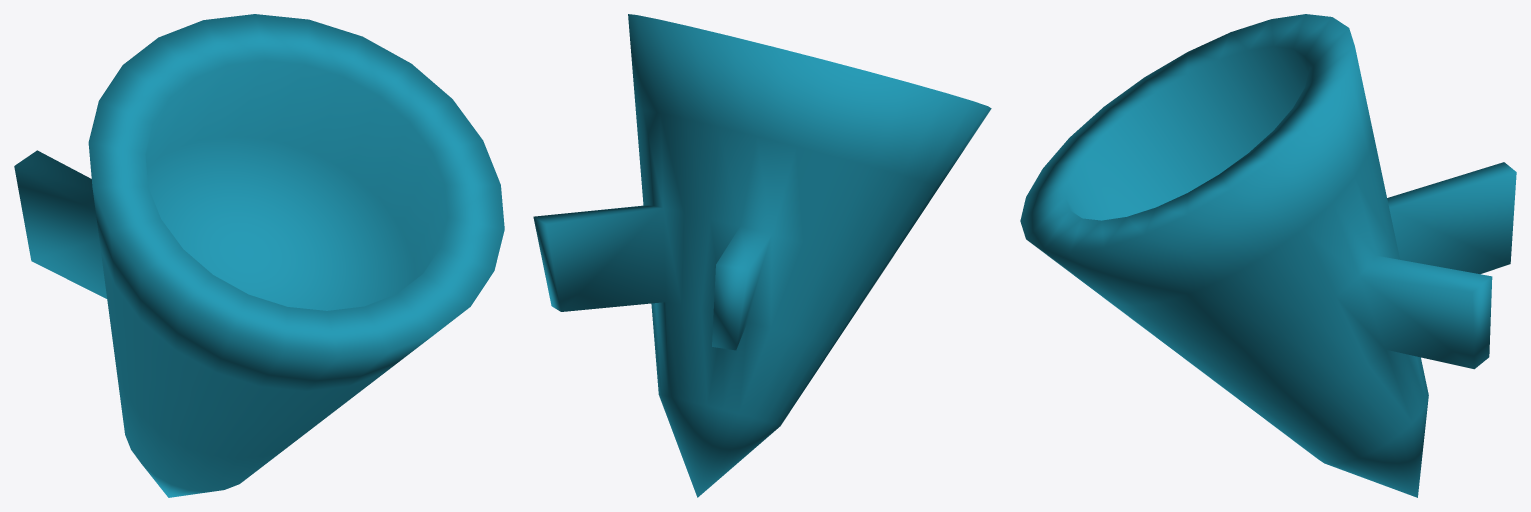
Rendered from R4YL_PROP_temple_torch_Phase3.FBX.
3 views of the same model, side by side, from view 1: azimuth 30°, elevation 25°; view 2: azimuth 150°, elevation 25°; view 3: azimuth 270°, elevation 25° (orthographic). The views are drawn at different scales.
Parts seen in each view (by area): view 1: R4YL_PROP_temple_torch_Phase3; view 2: R4YL_PROP_temple_torch_Phase3; view 3: R4YL_PROP_temple_torch_Phase3.
Part boxes in pixels (x1,y1,x2,y2): R4YL_PROP_temple_torch_Phase3: (14,14,504,497); R4YL_PROP_temple_torch_Phase3: (533,14,991,497); R4YL_PROP_temple_torch_Phase3: (1020,14,1516,497).
Size of the model in its own units: 40.47 by 52.22 by 51.99.
